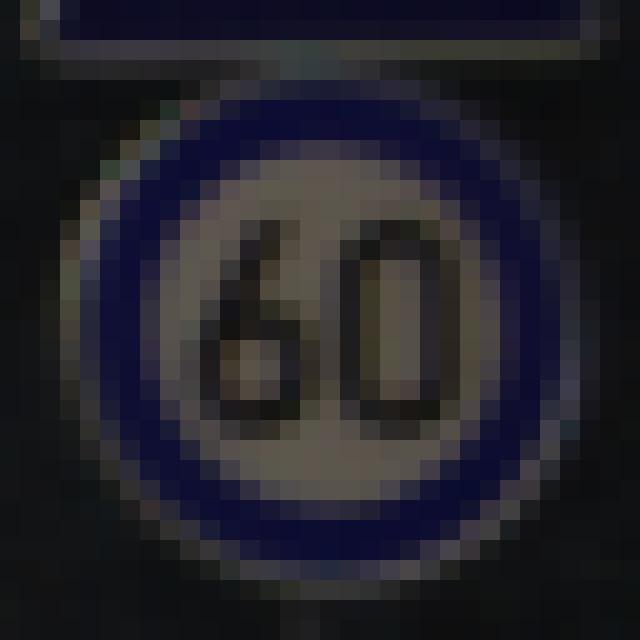SPEED-LIMIT-60: (32, 66, 611, 623)
